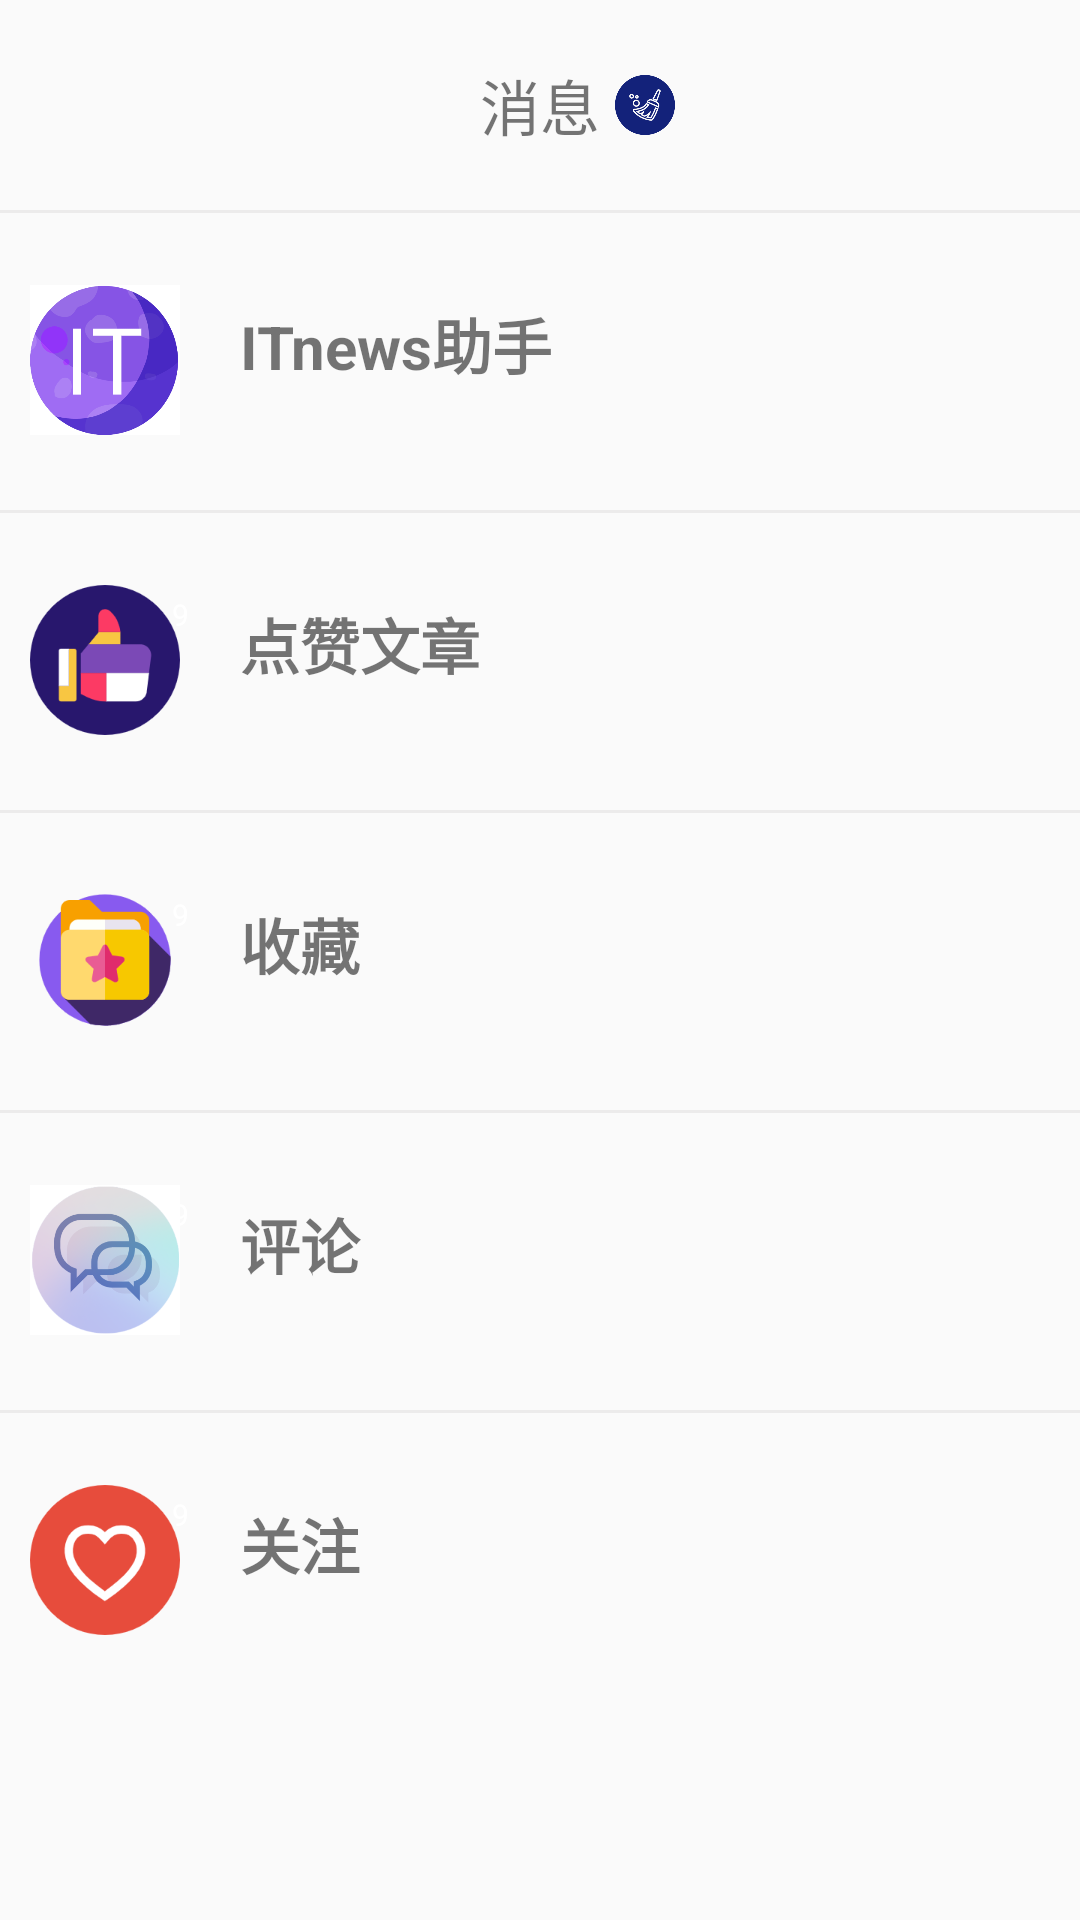

Named icons in this screenshot (1080*1920) and their centers, (x,y):
message collect: (105,960)
message comment: (105,1260)
message focus: (105,1560)
message like: (105,660)
remove: (645,105)
